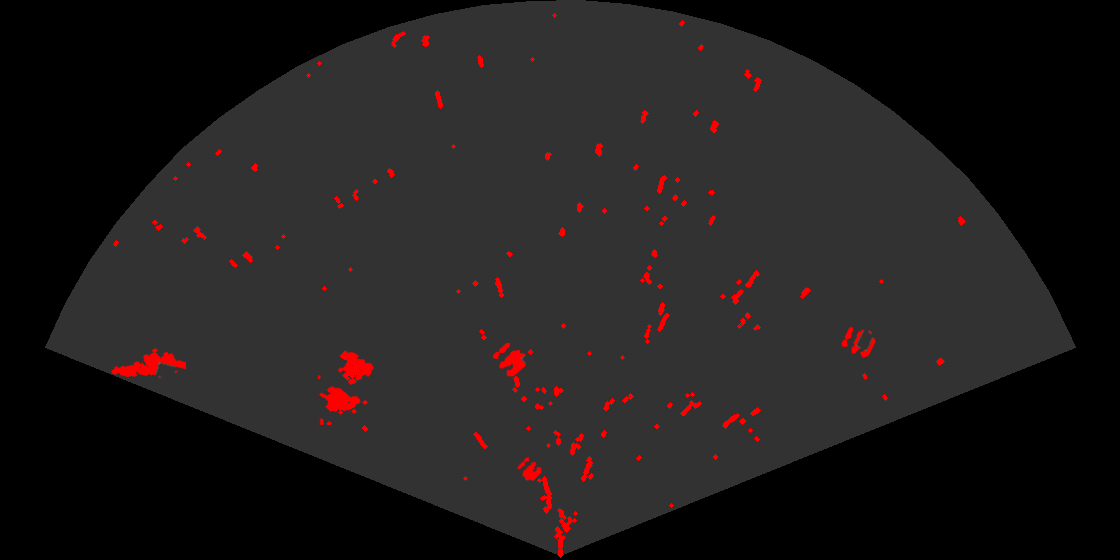ball: (491, 341, 527, 378), (840, 325, 877, 360), (516, 455, 543, 483)
cage: (318, 349, 375, 425)
frogman: (109, 346, 186, 380)
